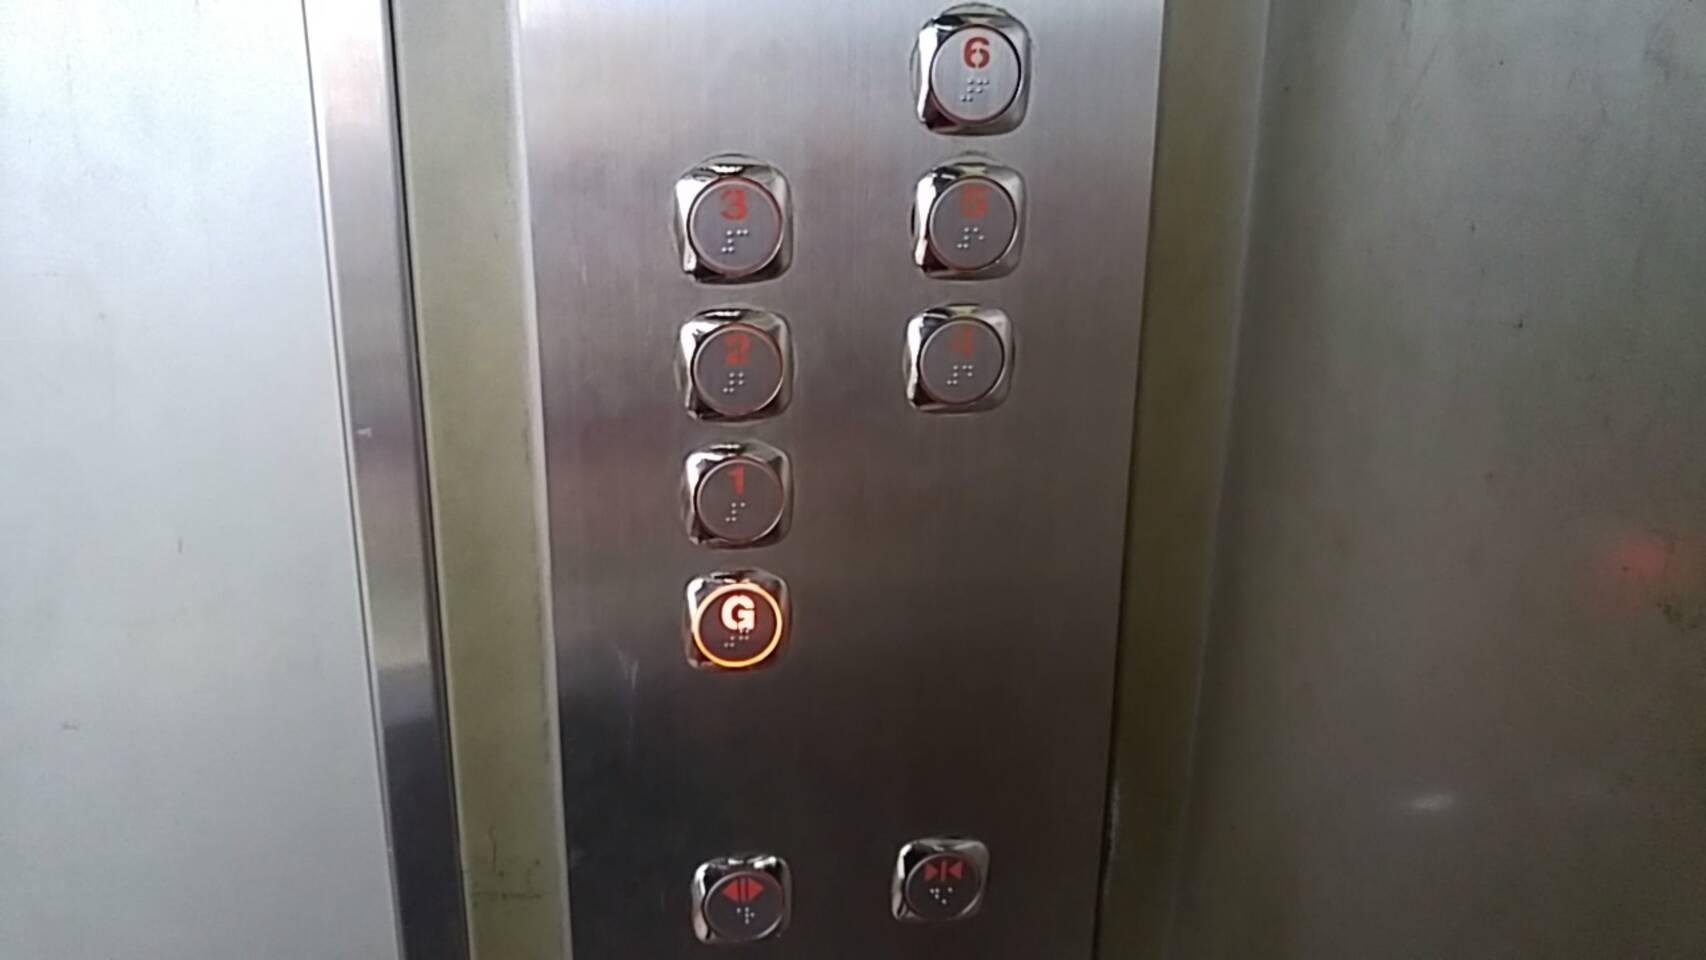1: (675, 441, 801, 550)
2: (673, 307, 792, 421)
3: (673, 150, 797, 287)
4: (903, 299, 1015, 414)
5: (912, 154, 1028, 284)
6: (910, 2, 1033, 139)
G: (676, 566, 790, 674)
close: (890, 837, 990, 927)
open: (689, 850, 793, 949)
